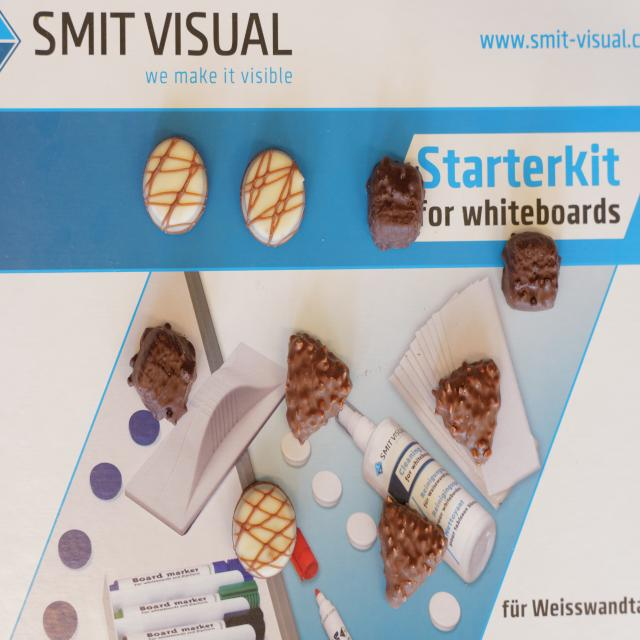Creme_brulee: (232, 480, 296, 580), (143, 138, 206, 234), (242, 151, 304, 244)
Tentation_noir: (367, 155, 424, 252), (500, 229, 563, 308)
Triangolo: (378, 494, 448, 608), (284, 332, 354, 444), (431, 359, 501, 467), (127, 321, 199, 426)
